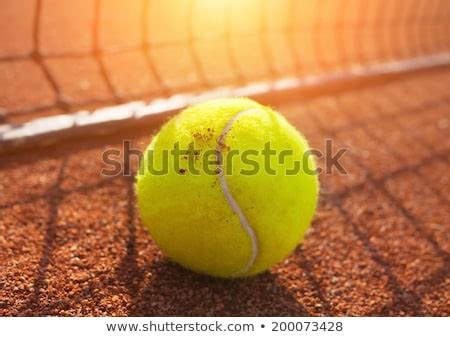tennis_ball: (135, 96, 320, 279)
